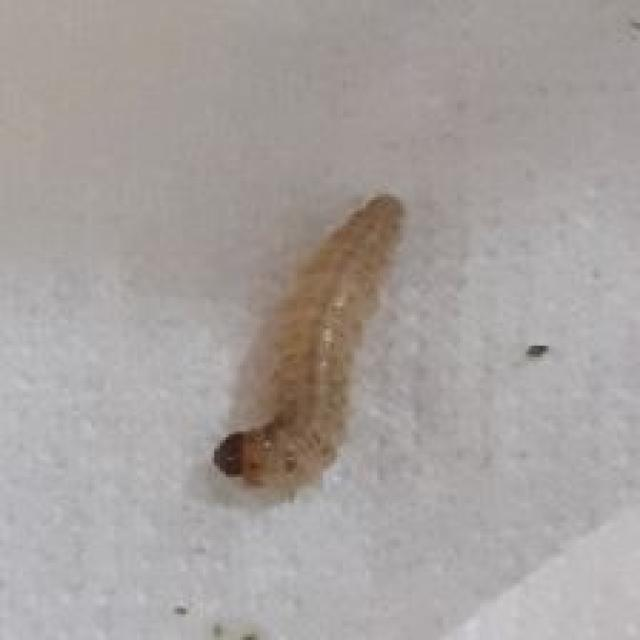white mucus: (175, 160, 487, 546)
